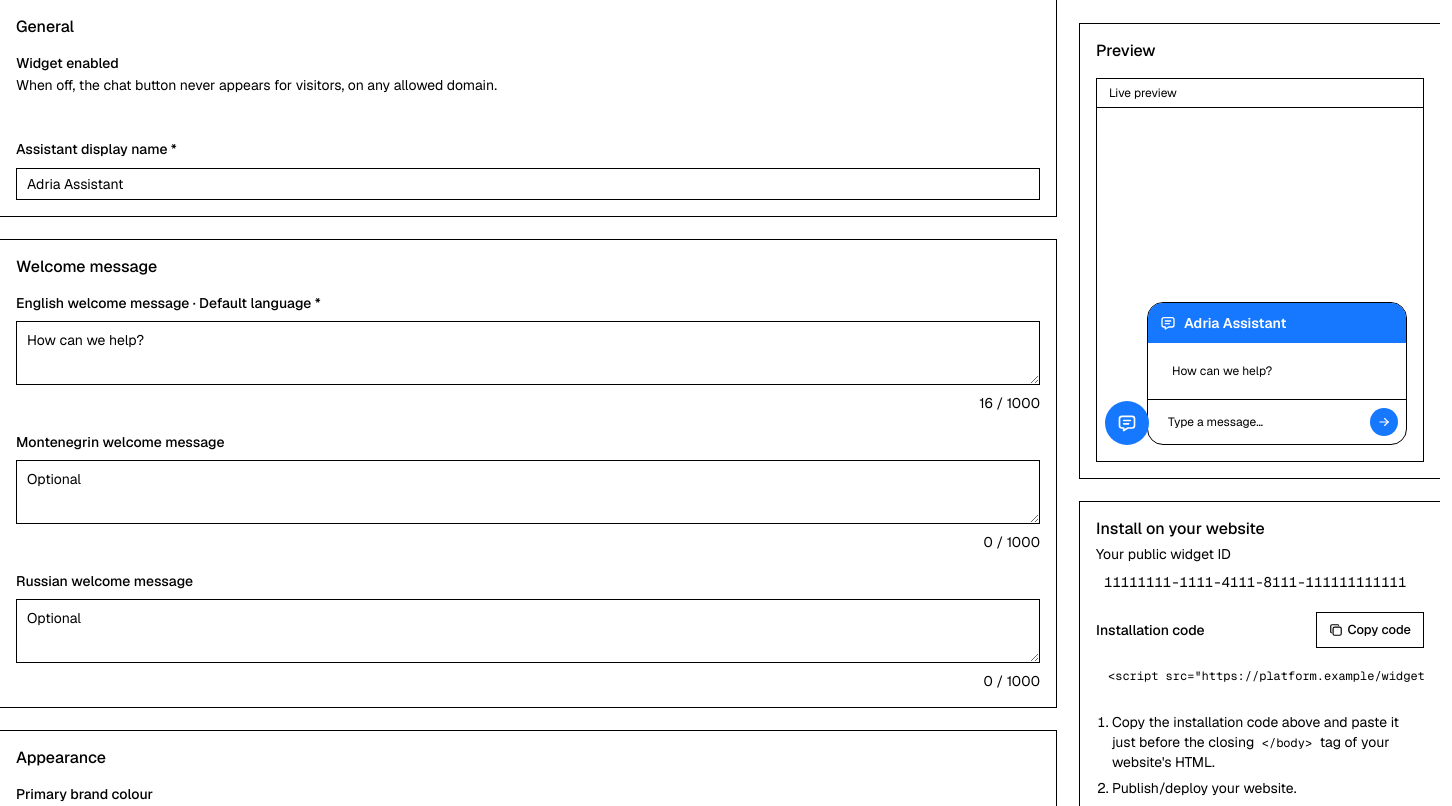
Test: WidgetSettingsForm — live preview › reflects the assistant name typed into the form before saving
Replace the text in the field labelled "Assistant display name *" with "Riviera Host" at [528, 184], box top-left (16, 168), bottom-right (1040, 200)
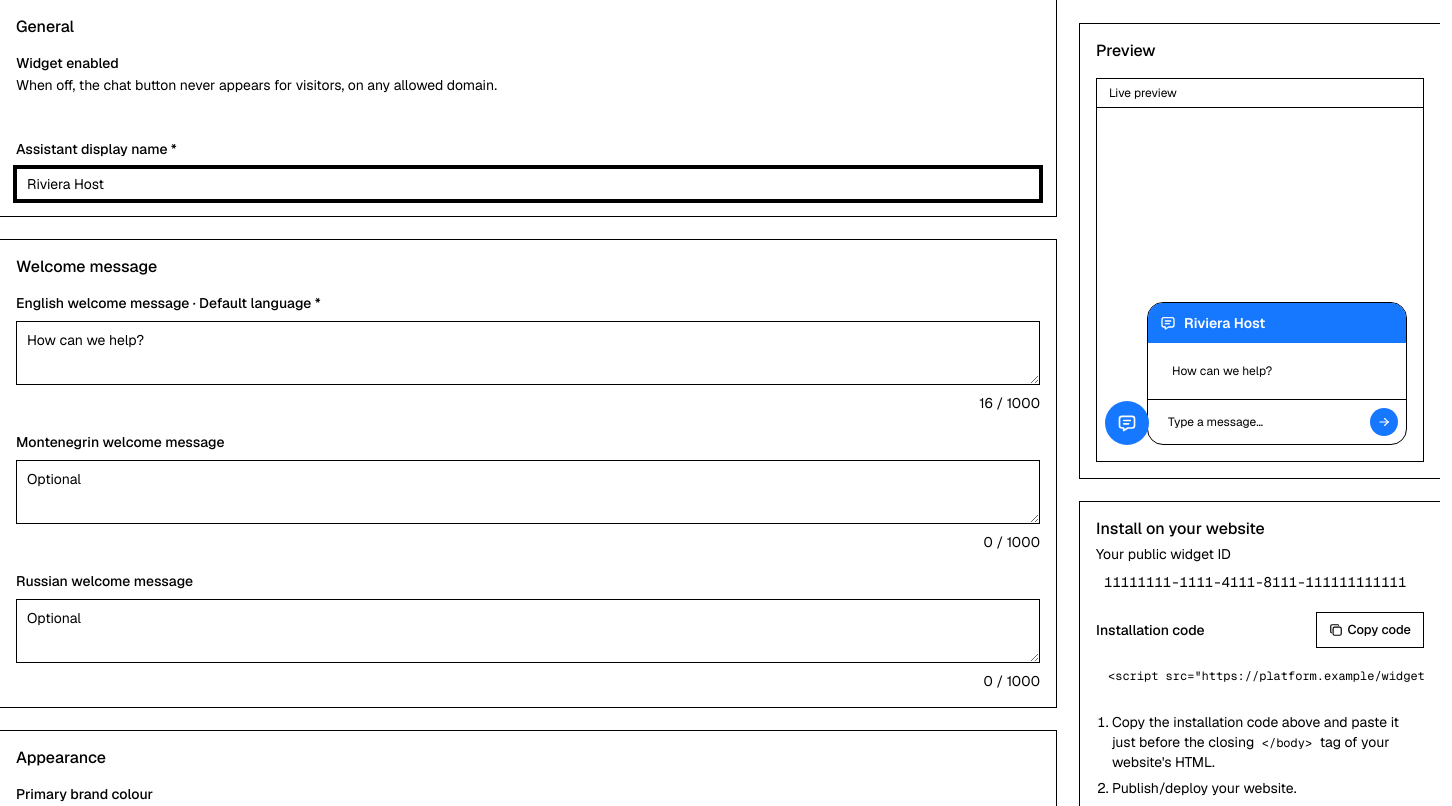
Now the text "Riviera Host" is shown, box top-left (1184, 313), bottom-right (1265, 333)
